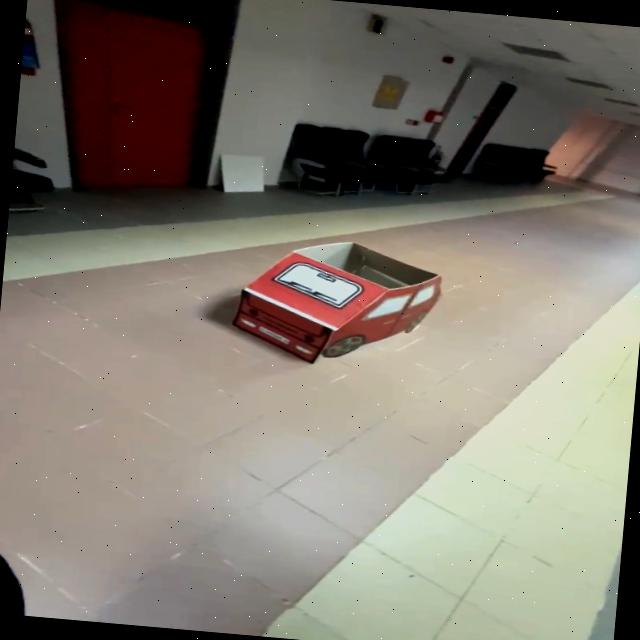red_car: (198, 214, 472, 388)
